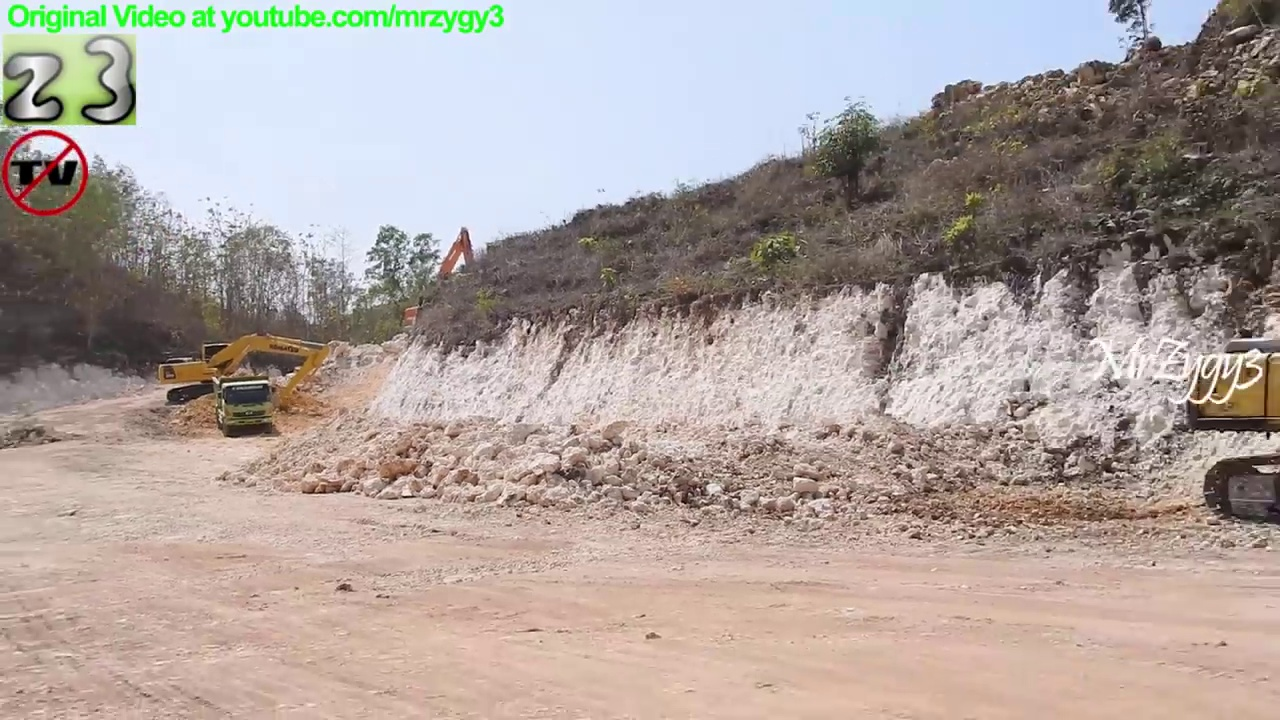excavator: (1182, 333, 1280, 527), (157, 331, 337, 417), (399, 224, 485, 343)
truck: (212, 369, 279, 438)
